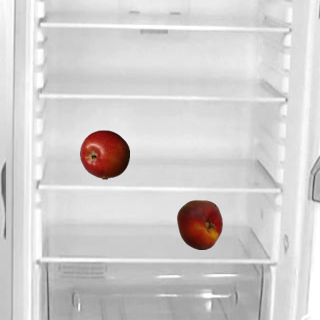Apple Braeburn: (79, 129, 129, 179)
Nectarine Flat: (174, 199, 224, 249)
